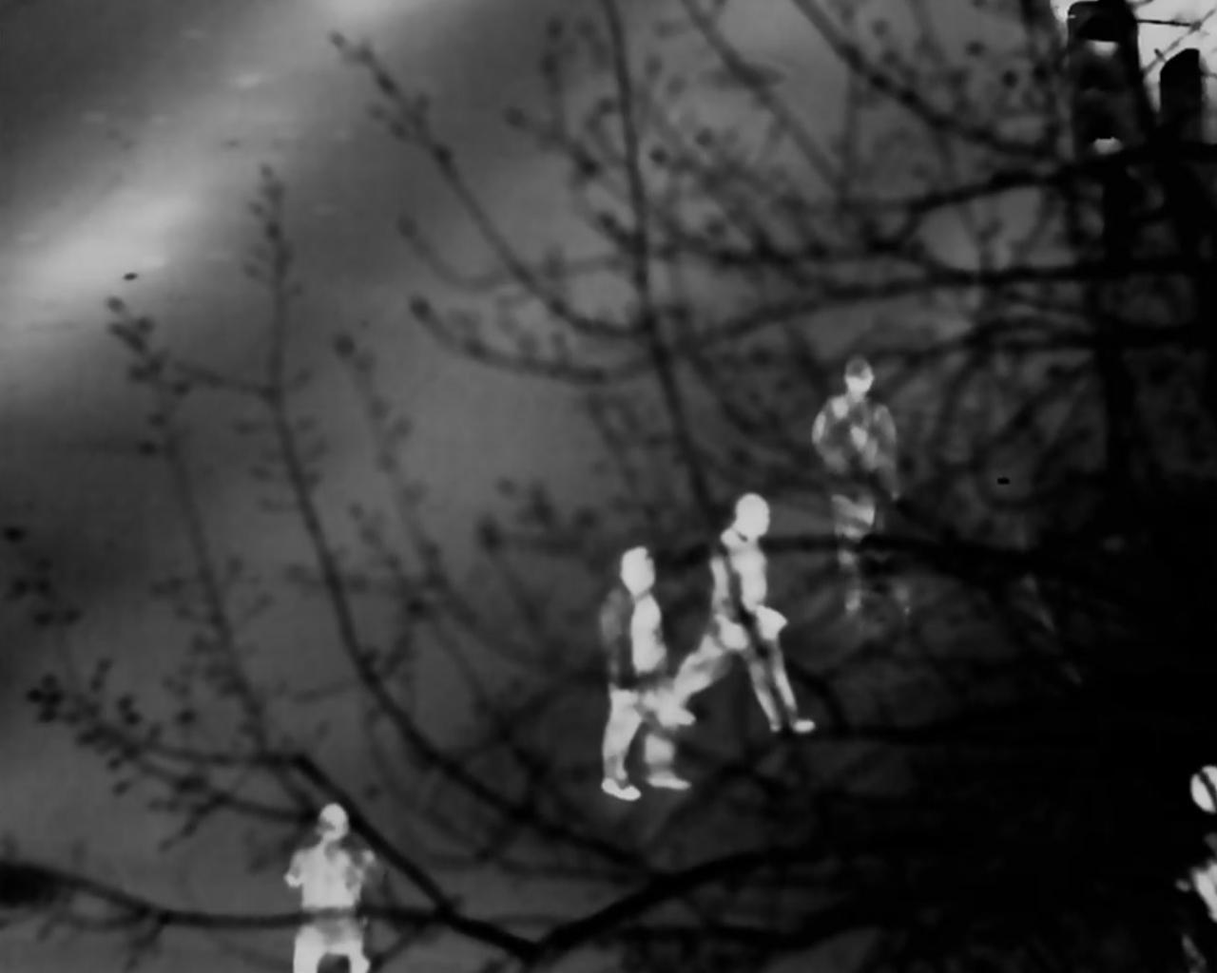person: (701, 469, 806, 745), (812, 352, 903, 592), (281, 808, 404, 967), (608, 539, 668, 795)
